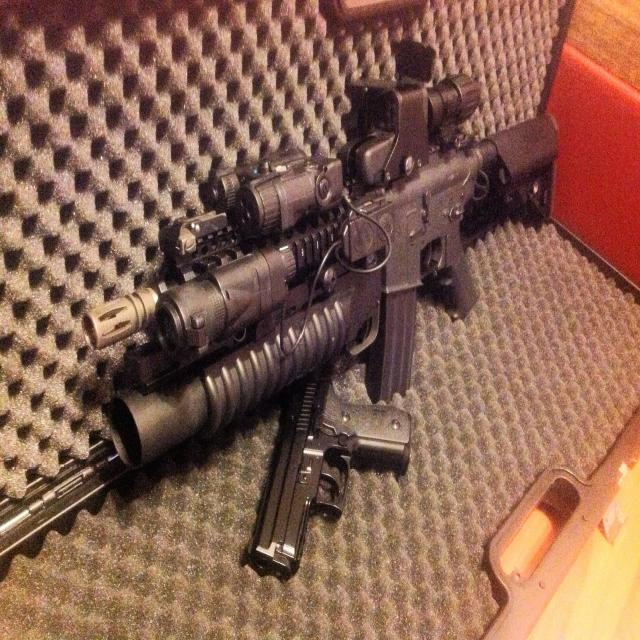firearm: (86, 42, 556, 470)
pistol: (251, 377, 409, 580)
